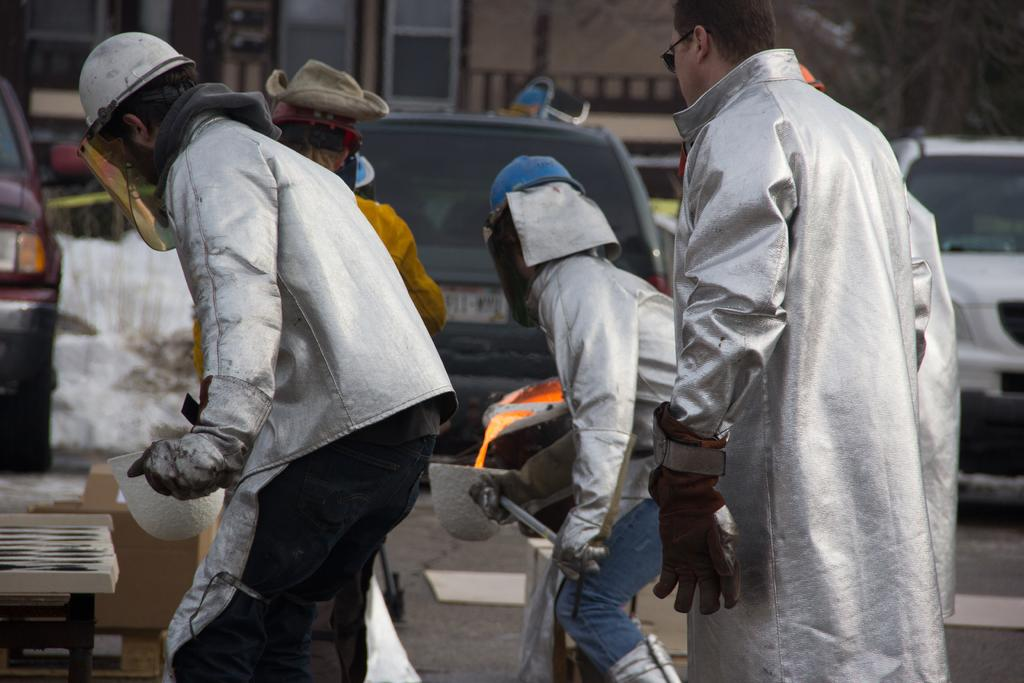Hat: (264, 60, 392, 123)
